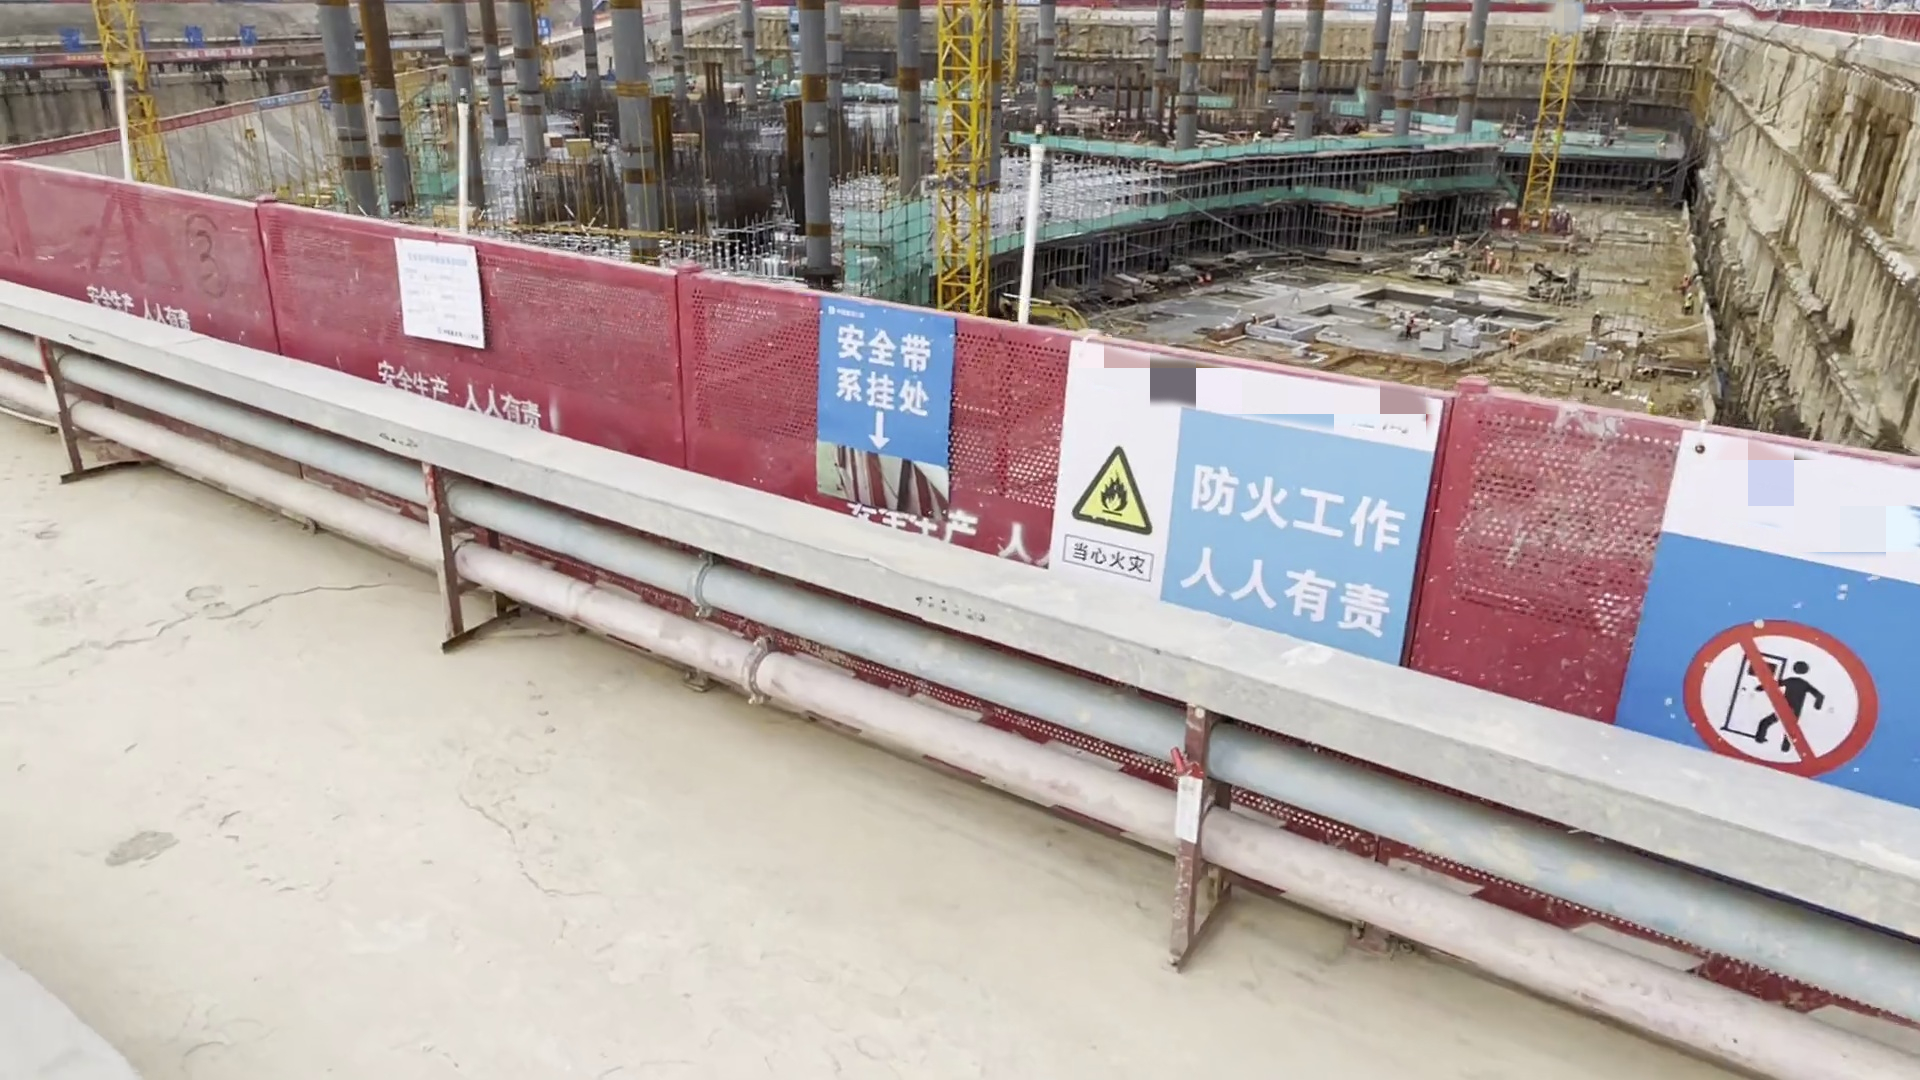fence: (1, 162, 1920, 1080)
slogan: (1042, 336, 1451, 663), (1613, 425, 1920, 816)
